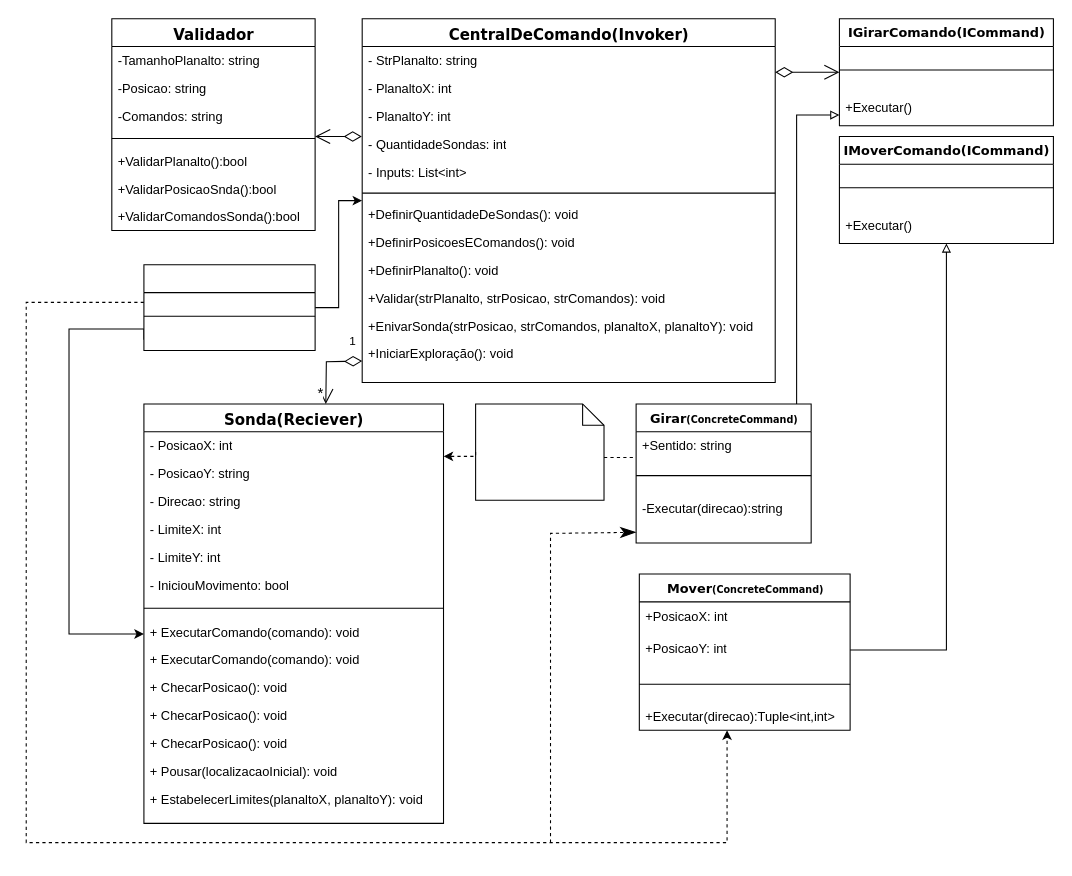
This 1072x876 diagram has some shape labels left out. The shapes that lost their labels are listed below. From the top down, each one's centre as x and y in pixels, then its label:
At [229,307]: "Program(Client)".
At [539,451]: "Sonda. ExecutarComando()".
